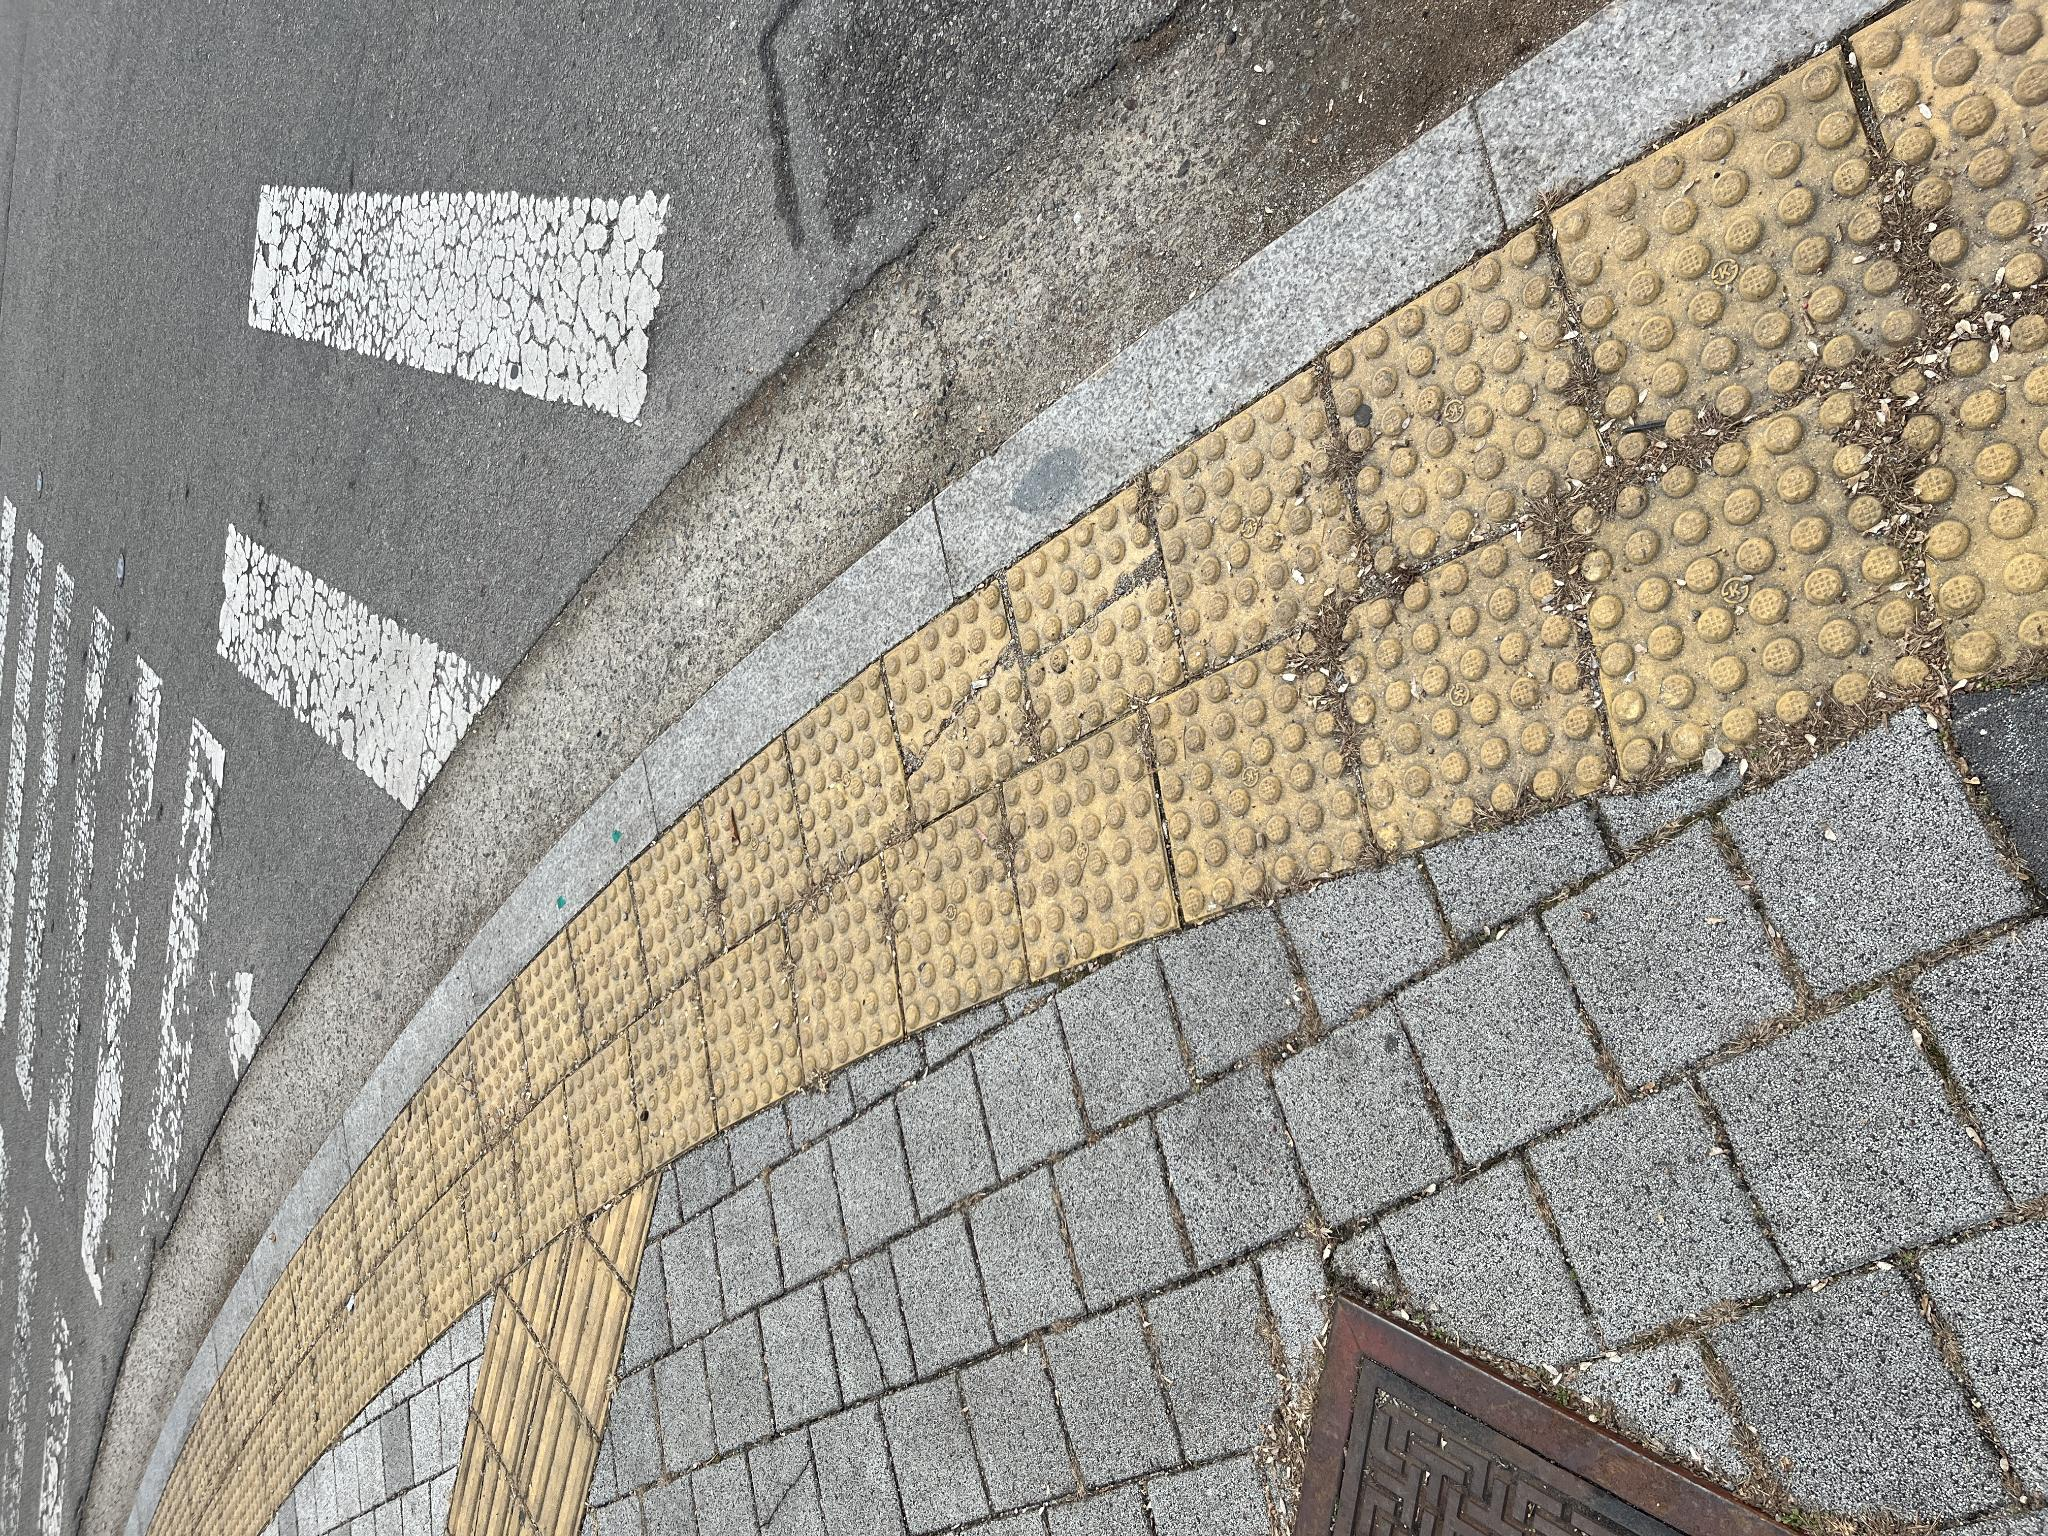Stop block broken: (779, 1005, 1056, 1186), (710, 884, 956, 1041)
Stop block normal: (953, 1326, 1309, 1536), (679, 1326, 1011, 1536), (861, 1150, 1168, 1375), (614, 1149, 910, 1368), (558, 1004, 821, 1176), (506, 883, 750, 1026), (647, 786, 874, 913), (452, 787, 681, 902)
